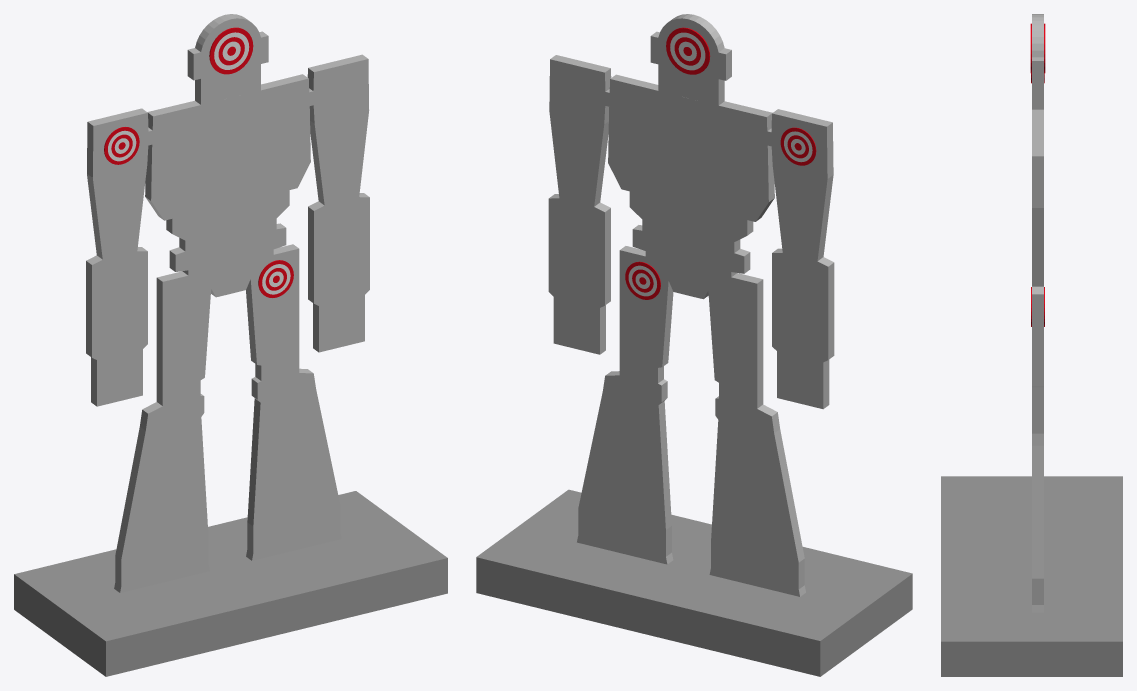
The model's file is Giant_Tut.fbx.
The picture shows the model from 3 angles, left to right: view 1: azimuth 30°, elevation 25°; view 2: azimuth 150°, elevation 25°; view 3: azimuth 270°, elevation 25°; orthographic projection.
Visible parts, largest first — view 1: Cube, Body.001, Leg_Left.001, Leg_right.001, Hand_Left.001, Hand_right.001, Head.001; view 2: Cube, Body.001, Leg_Left.001, Leg_right.001, Hand_Left.001, Hand_right.001, Head.001; view 3: Cube, Hand_right.001, Leg_right.001, Head.001.
Part boxes in pixels (bbox=[...]): Cube: bbox=[14, 491, 447, 676]; Body.001: bbox=[145, 74, 310, 297]; Leg_Left.001: bbox=[114, 271, 211, 592]; Leg_right.001: bbox=[246, 244, 341, 560]; Hand_Left.001: bbox=[86, 108, 152, 406]; Hand_right.001: bbox=[307, 54, 369, 352]; Head.001: bbox=[187, 14, 268, 104]; Cube: bbox=[476, 489, 912, 676]; Body.001: bbox=[608, 74, 774, 299]; Leg_Left.001: bbox=[708, 273, 805, 596]; Leg_right.001: bbox=[577, 246, 673, 564]; Hand_Left.001: bbox=[767, 109, 834, 409]; Hand_right.001: bbox=[548, 55, 611, 354]; Head.001: bbox=[650, 14, 731, 105]; Cube: bbox=[941, 476, 1122, 676]; Hand_right.001: bbox=[1032, 130, 1043, 433]; Leg_right.001: bbox=[1031, 287, 1044, 612]; Head.001: bbox=[1030, 14, 1045, 109].
Bounding box in the file's own units: 633 × 1031 × 294.
